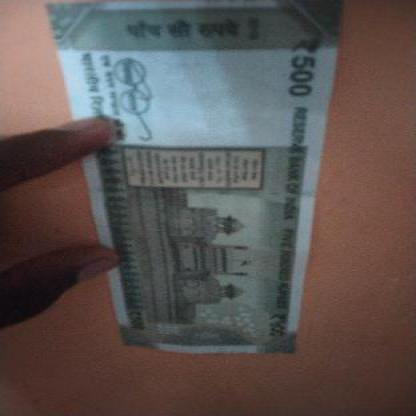New500Back: (50, 3, 313, 353)
